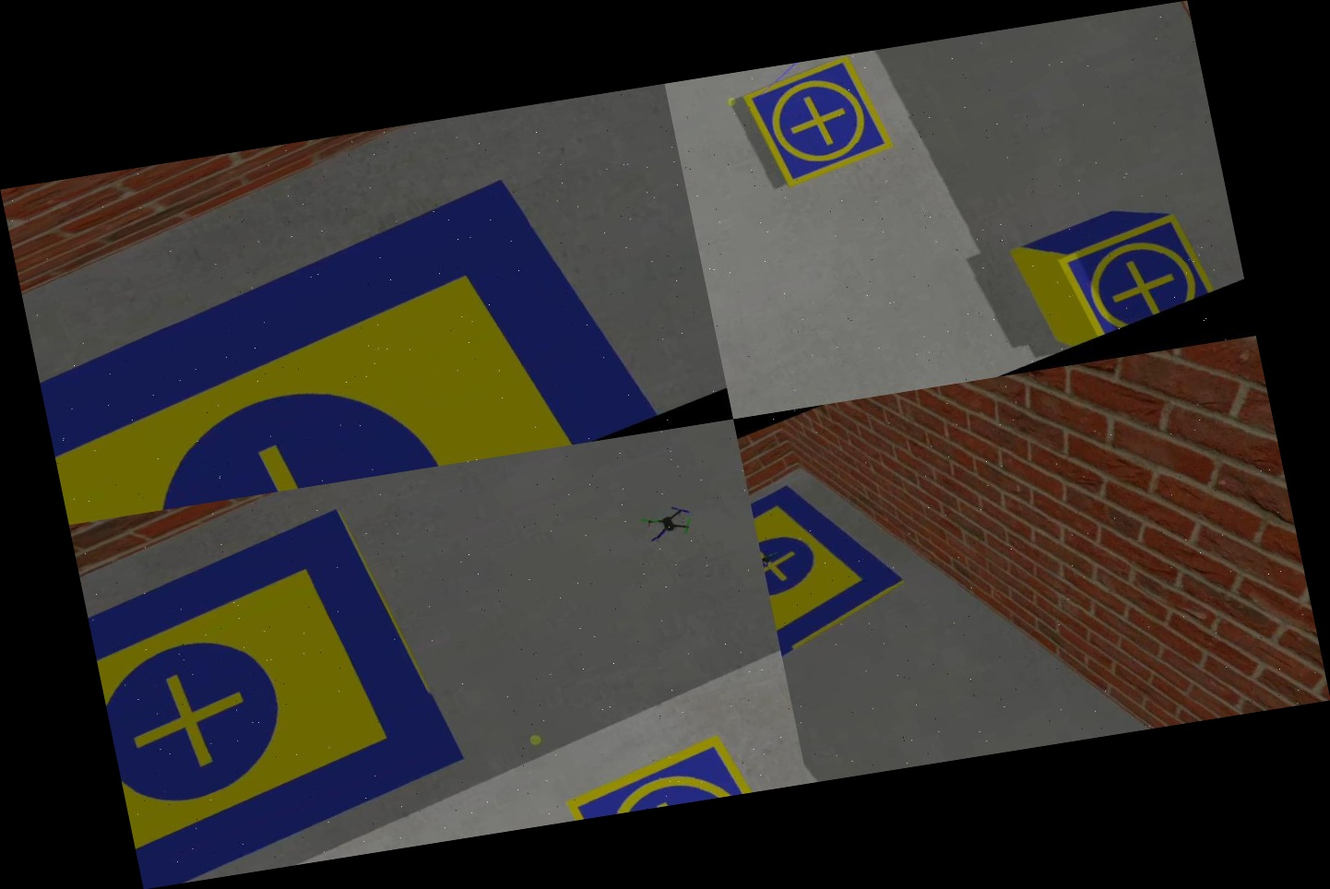large_base: (12, 152, 663, 525), (74, 494, 481, 888), (745, 454, 929, 674)
small_base: (1048, 207, 1224, 345), (739, 51, 902, 192), (554, 724, 787, 821)
